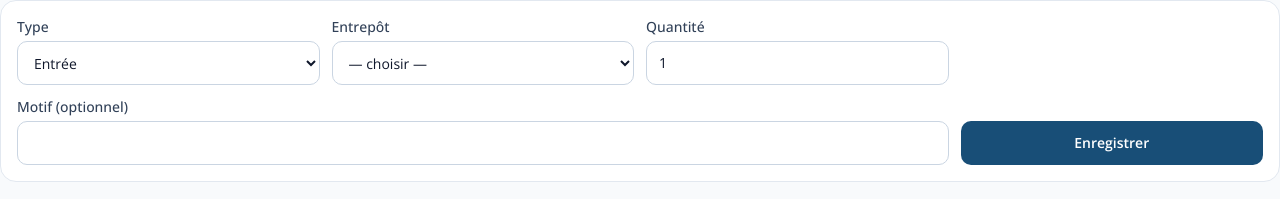
Test: MovementForm › étant donné un transfert, quand choisir le type, alors le champ de destination apparaît
Check: the text "Entrepôt destination" is not shown
Select "Transfert" in the dropdown labelled "Type" at (168, 63), box [17,41,320,85]
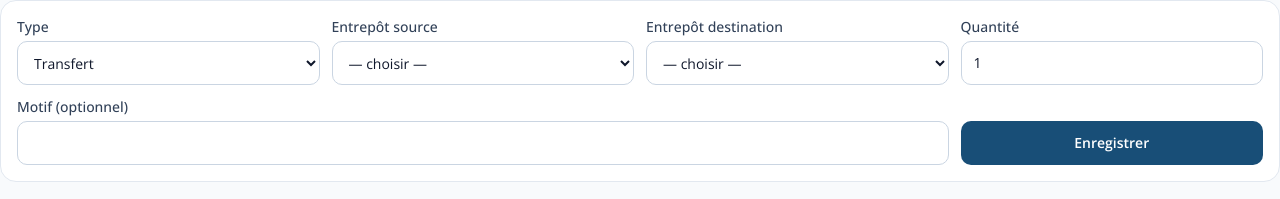
Check: the text "Entrepôt destination" is shown, box [646,17,783,36]
Check: the text "Entrepôt source" is shown, box [332,17,438,36]
